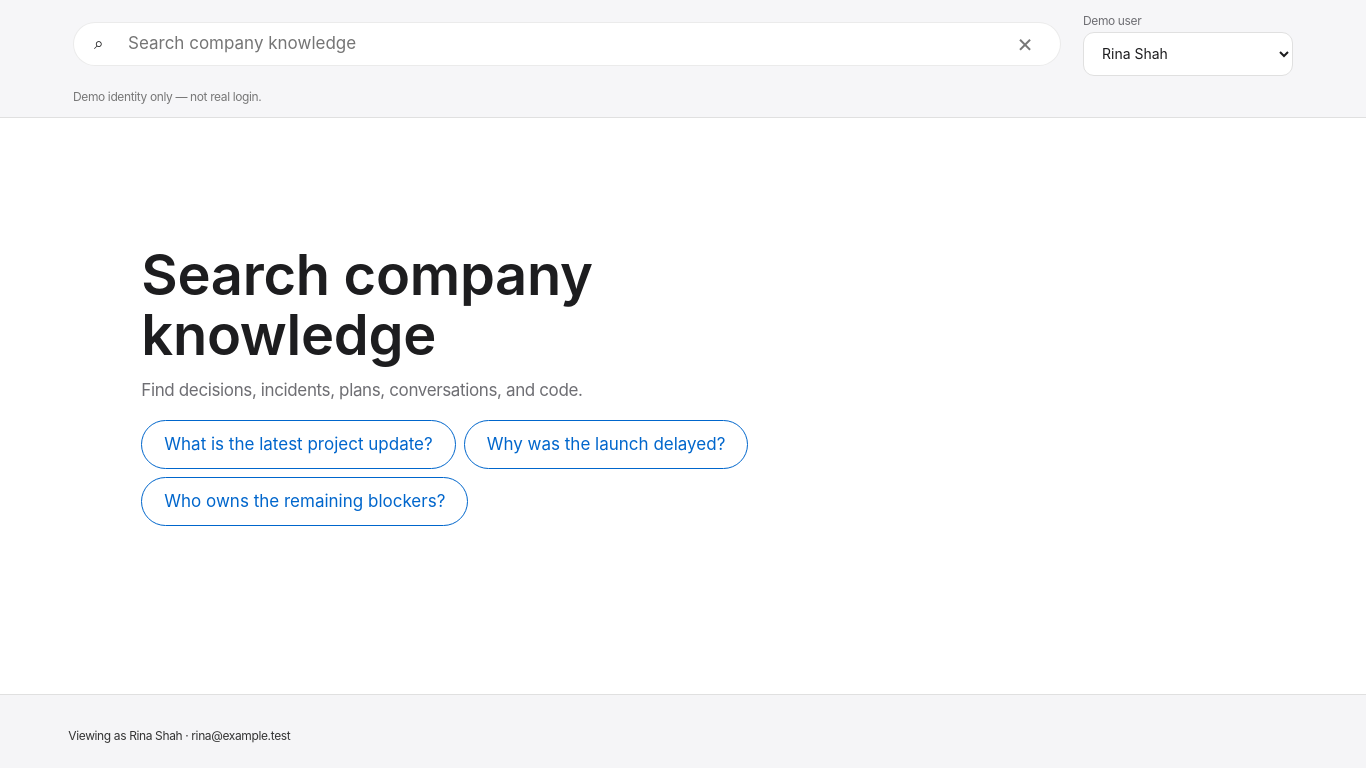
it: accepts a typed follow-up inside the current answer panel
This screenshot has width=1366, height=768.
Check: the text "Demo identity only — not real login." is shown, box x1=73 y1=89 x2=261 y2=104
Type "pool timeout" into the search field.
click(562, 44); type("pool timeout")  # box x1=126 y1=30 x2=998 y2=57
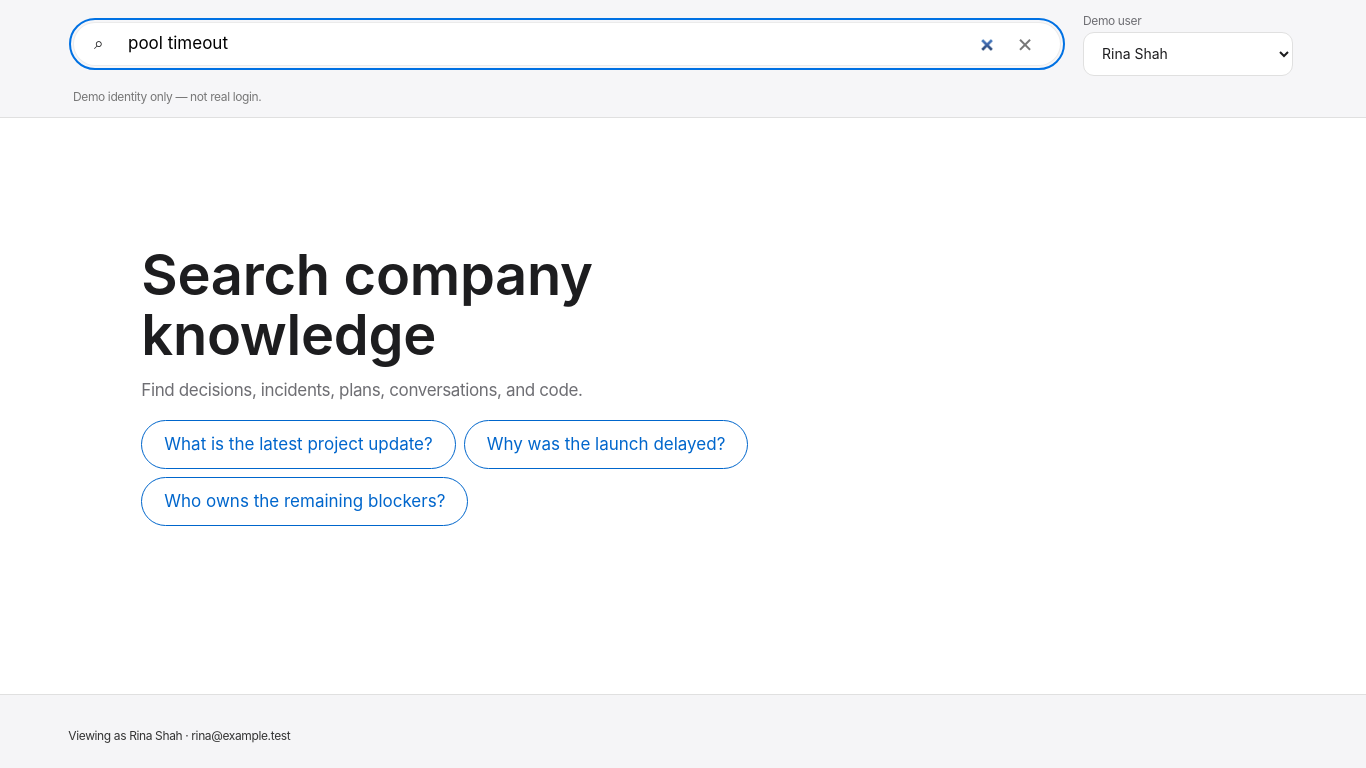
Press Enter
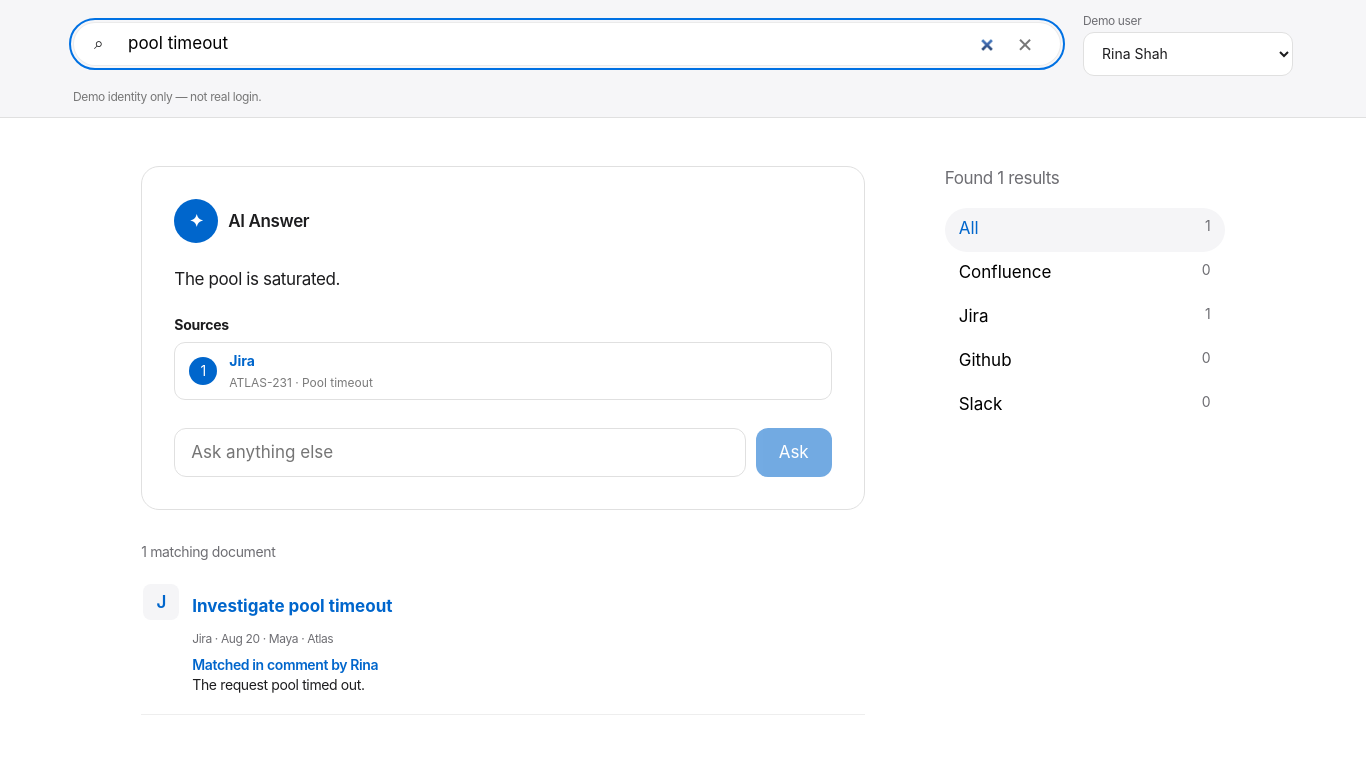
Check: the text "The pool is saturated." is shown, box x1=174 y1=269 x2=340 y2=289
Type "What changed next?" into the field named "Ask a follow-up question".
click(460, 453); type("What changed next?")  # box x1=174 y1=428 x2=746 y2=478
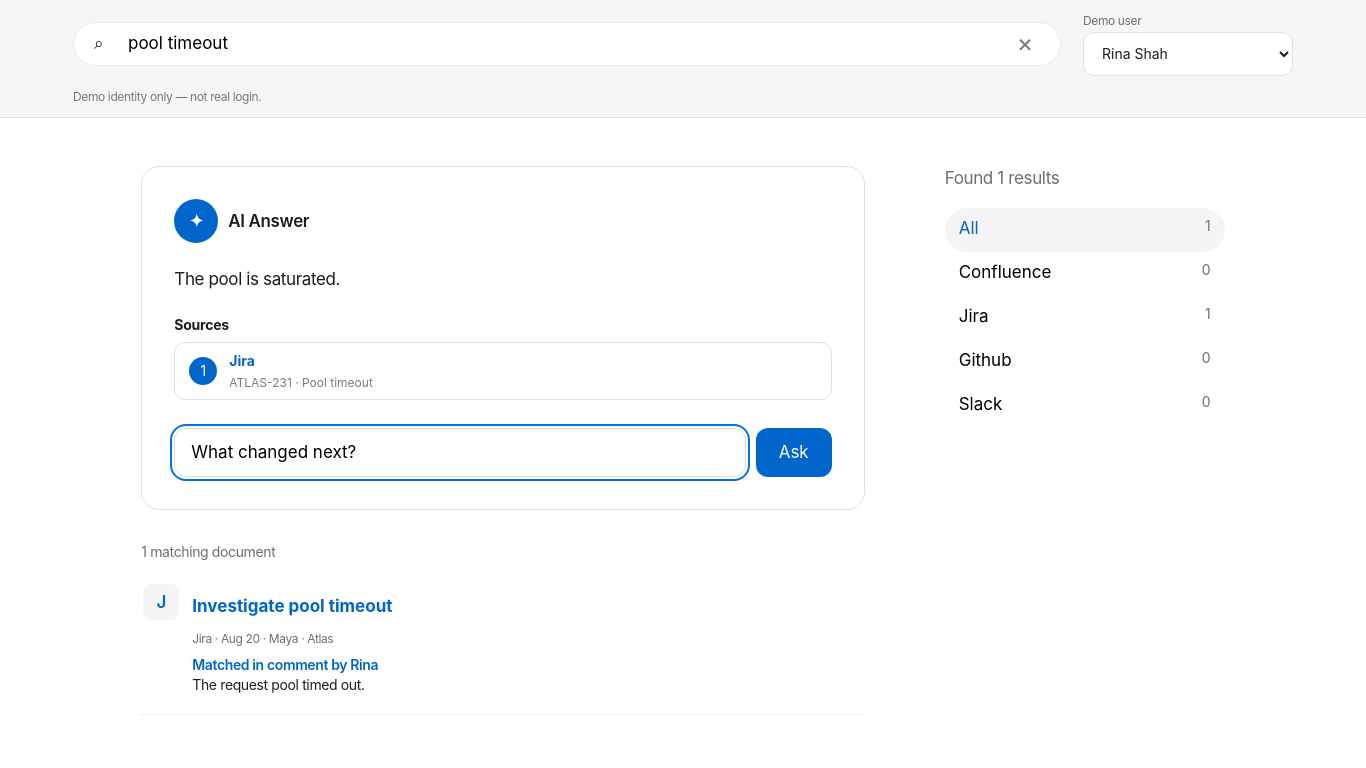
Click the button "Ask".
click(794, 453)  # box x1=756 y1=428 x2=832 y2=478
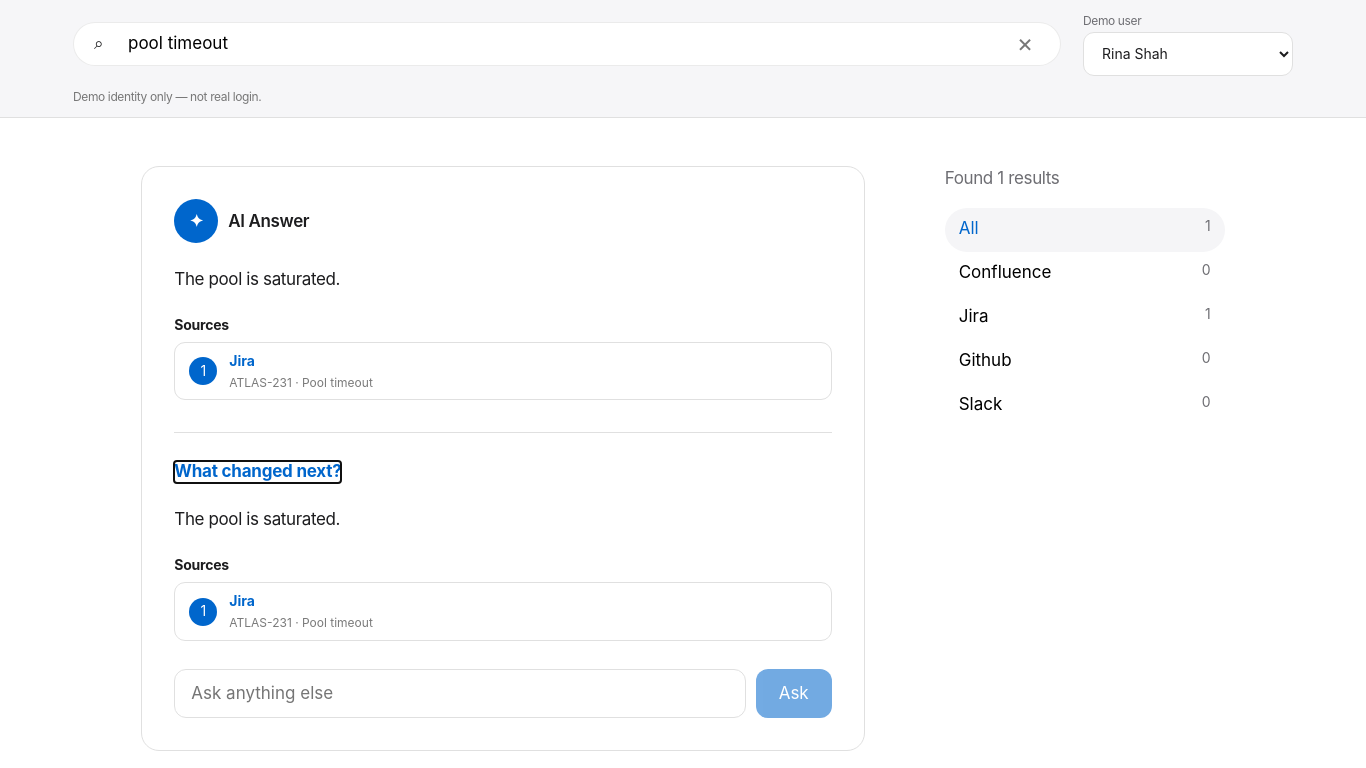
Check: the heading "What changed next?" is shown, box x1=174 y1=462 x2=342 y2=483
Check: the text "The pool is saturated." is shown 2 times, box x1=174 y1=269 x2=340 y2=289; x1=174 y1=509 x2=340 y2=529
